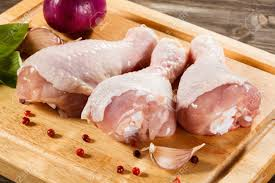Chicken: (82, 42, 219, 110)
